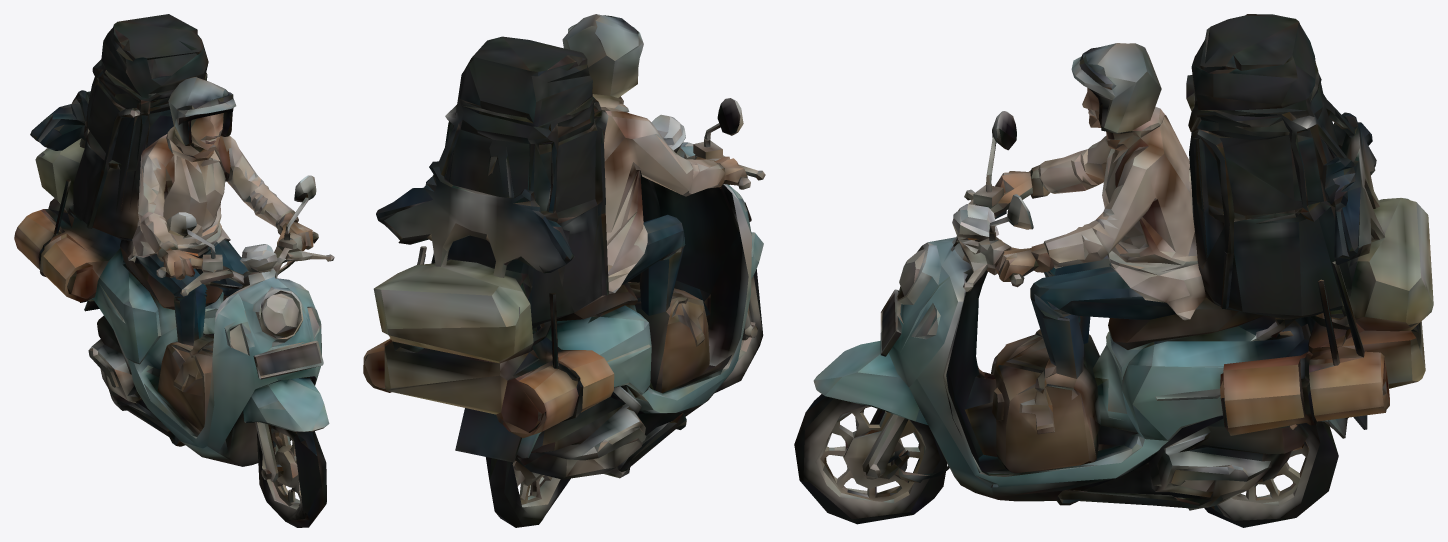
Rendered from scoopy_lod2.glb.
3 views of the same model, side by side, from view 1: azimuth 30°, elevation 25°; view 2: azimuth 150°, elevation 25°; view 3: azimuth 270°, elevation 25° (orthographic). The views are drawn at different scales.
Parts seen in each view (by area): view 1: tripo_node_57d0da6b; view 2: tripo_node_57d0da6b; view 3: tripo_node_57d0da6b.
Boxes of the visible parts, x1,y1,x2,y2 form: tripo_node_57d0da6b: (14, 14, 334, 527); tripo_node_57d0da6b: (363, 14, 765, 527); tripo_node_57d0da6b: (794, 14, 1433, 527).
Bounding box in the file's own units: 40.6 × 85 × 99.08.
Materials: 1 (1 with a texture image).
